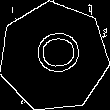O_W: (26, 33, 81, 80)
